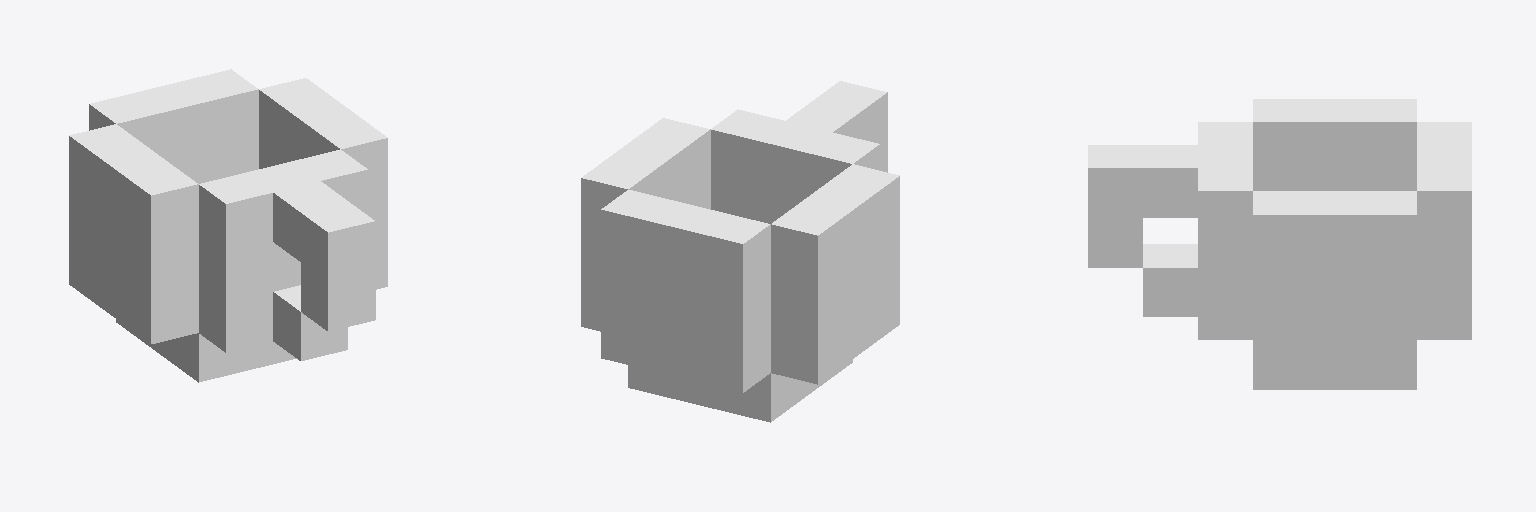
The model's file is Cup.obj.
3 views of the same model, side by side, from view 1: azimuth 30°, elevation 25°; view 2: azimuth 150°, elevation 25°; view 3: azimuth 270°, elevation 25° (orthographic).
Size of the model in its own units: 5 by 4 by 7.